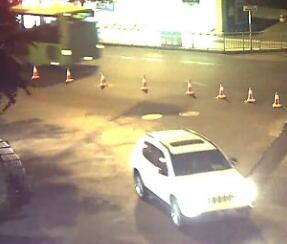bus: (0, 5, 102, 69)
car: (130, 126, 258, 228)
